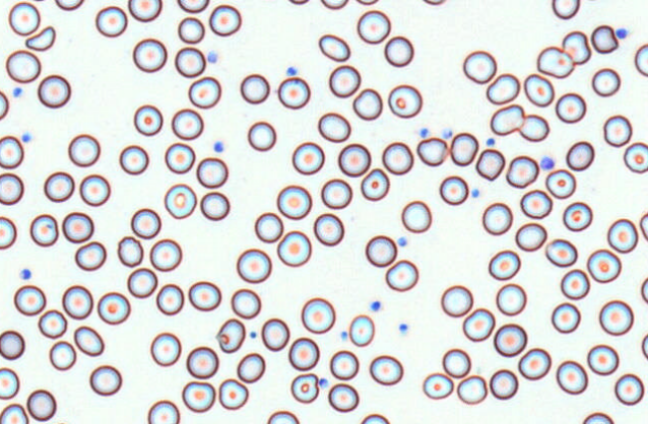PLT: (368, 299, 384, 314), (541, 156, 556, 172), (284, 65, 301, 78), (18, 268, 34, 281), (208, 50, 221, 64), (21, 131, 33, 144), (317, 377, 330, 389), (397, 236, 409, 249), (11, 89, 25, 100), (213, 141, 225, 153), (615, 28, 627, 40), (483, 136, 496, 147), (439, 128, 453, 138), (338, 331, 349, 342), (471, 187, 481, 199), (399, 323, 408, 336), (419, 127, 429, 137), (249, 331, 258, 340)
RBC: (598, 299, 634, 335), (276, 230, 311, 267), (300, 297, 335, 334), (276, 184, 312, 219), (536, 45, 574, 78), (586, 248, 621, 283), (236, 248, 271, 283), (132, 37, 167, 72), (5, 49, 41, 83), (462, 49, 496, 84), (356, 9, 390, 44), (387, 84, 422, 118), (163, 183, 196, 219), (493, 323, 527, 357), (37, 74, 71, 108), (462, 307, 495, 341), (517, 347, 551, 380), (505, 155, 539, 188), (555, 360, 588, 394), (291, 141, 324, 175), (337, 143, 371, 176), (97, 291, 130, 325), (67, 133, 100, 167), (8, 1, 40, 36), (489, 103, 524, 135), (485, 72, 520, 104), (61, 284, 93, 319), (440, 284, 473, 317), (149, 238, 182, 271), (277, 76, 310, 109), (181, 380, 215, 412), (381, 141, 413, 175), (150, 331, 181, 366), (607, 218, 638, 253), (188, 76, 221, 108), (385, 259, 418, 291), (328, 64, 360, 97), (186, 346, 218, 379), (365, 234, 397, 267), (89, 364, 122, 396), (400, 200, 432, 233), (61, 211, 94, 243), (208, 4, 241, 36), (523, 73, 554, 107), (317, 111, 351, 142), (313, 212, 344, 246), (288, 336, 319, 370), (369, 354, 403, 385), (196, 156, 228, 188), (171, 108, 203, 140), (95, 5, 127, 37), (481, 202, 512, 235), (495, 283, 526, 316), (13, 284, 46, 315), (188, 280, 221, 311), (79, 173, 110, 206), (561, 30, 591, 64), (260, 317, 290, 351), (164, 142, 195, 174), (488, 249, 520, 280), (320, 178, 352, 209), (587, 344, 619, 375), (130, 207, 161, 239), (74, 240, 106, 271), (519, 189, 552, 219), (352, 87, 382, 120), (26, 388, 56, 421), (360, 167, 389, 201), (449, 132, 478, 166), (126, 267, 157, 298), (73, 325, 104, 356), (230, 288, 261, 319), (545, 168, 576, 199), (174, 46, 205, 77), (555, 92, 586, 123), (118, 144, 149, 175), (43, 171, 74, 202), (218, 378, 248, 410), (560, 268, 590, 300), (327, 382, 359, 412), (614, 373, 644, 405), (383, 35, 413, 67), (133, 104, 163, 136), (603, 114, 632, 147), (29, 213, 58, 246), (456, 374, 487, 404), (329, 349, 359, 380), (239, 73, 269, 104), (515, 222, 547, 251), (254, 211, 283, 243), (545, 238, 577, 267), (155, 283, 184, 315), (441, 348, 471, 378), (562, 201, 592, 231), (236, 352, 265, 383), (489, 368, 518, 399), (565, 140, 594, 171), (551, 302, 580, 333), (247, 120, 276, 151), (318, 33, 350, 61), (519, 113, 549, 142), (37, 309, 67, 338), (439, 175, 468, 205), (290, 373, 319, 403), (199, 191, 229, 220), (591, 67, 620, 97), (48, 340, 76, 370), (422, 372, 453, 399), (117, 235, 143, 267), (348, 314, 374, 346), (0, 135, 24, 169), (0, 172, 24, 205), (147, 399, 180, 423), (0, 329, 25, 360), (127, 0, 162, 22), (623, 141, 647, 173), (177, 16, 204, 43), (0, 367, 19, 399), (0, 215, 17, 249), (0, 403, 28, 423), (551, 0, 580, 19), (634, 43, 647, 76), (266, 410, 299, 423), (177, 0, 209, 13), (582, 411, 614, 423), (359, 413, 389, 423), (54, 0, 84, 10), (0, 89, 9, 120), (639, 211, 648, 241), (320, 0, 348, 9), (640, 276, 648, 303), (641, 332, 648, 360), (422, 0, 446, 5), (355, 0, 379, 5), (287, 0, 309, 5)
Schistocyte: (415, 137, 449, 167), (216, 318, 245, 353), (475, 150, 504, 181), (24, 27, 56, 53), (592, 25, 619, 54)
